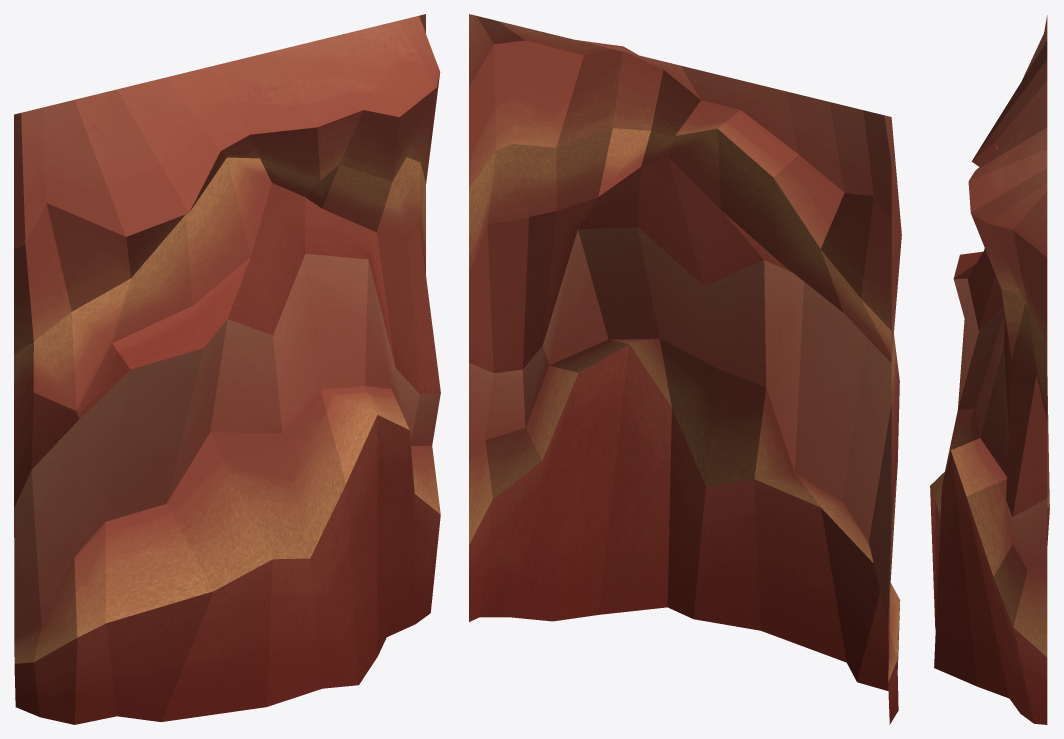
File: WallC.fbx
3 views of the same model, side by side, from view 1: azimuth 30°, elevation 25°; view 2: azimuth 150°, elevation 25°; view 3: azimuth 270°, elevation 25° (orthographic). The views are drawn at different scales.
Visible parts, largest first — view 1: wall 3; view 2: wall 3; view 3: wall 3.
Part boxes in pixels (bbox=[...]): wall 3: bbox=[14, 14, 440, 724]; wall 3: bbox=[469, 14, 901, 724]; wall 3: bbox=[930, 15, 1049, 724].
Bounding box in the file's own units: 1162 × 1598 × 327.
